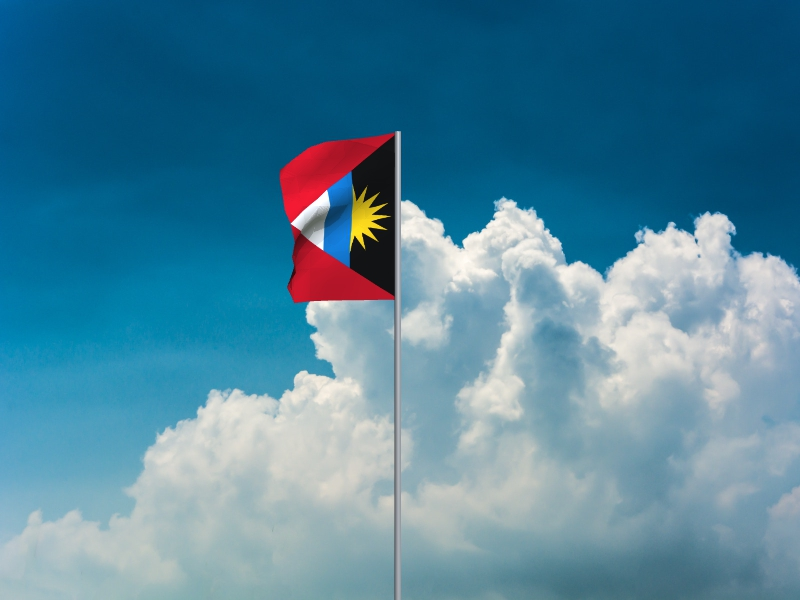ag: (278, 133, 396, 305)
